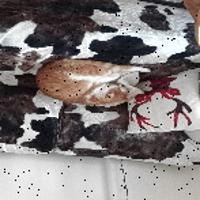asleep: (36, 58, 151, 106)
